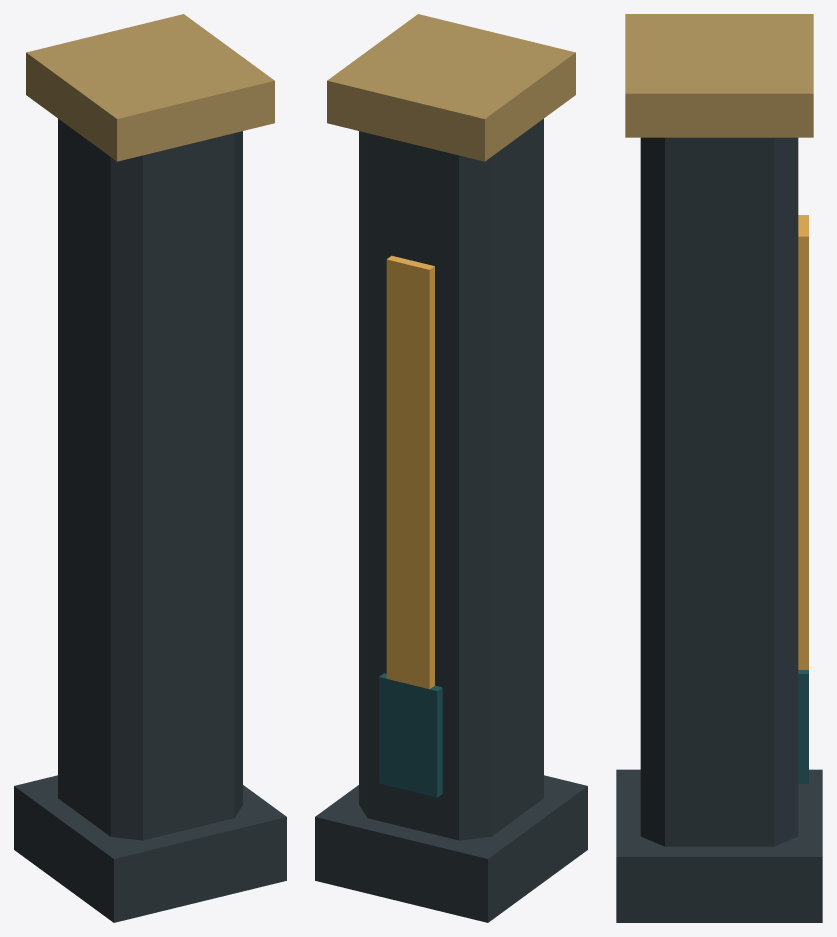
The model's file is VIC_S01_STATIC_EMITTER_Roblox.fbx.
The picture shows the model from 3 angles, left to right: view 1: azimuth 30°, elevation 25°; view 2: azimuth 150°, elevation 25°; view 3: azimuth 270°, elevation 25°; orthographic projection. The views are drawn at different scales.
Parts seen in each view (by area): view 1: VIC_S01_STATIC_EMITTER__Charcoal, VIC_S01_STATIC_EMITTER__Brass; view 2: VIC_S01_STATIC_EMITTER__Charcoal, VIC_S01_STATIC_EMITTER__Brass, VIC_S01_STATIC_EMITTER__Amber, VIC_S01_STATIC_EMITTER__Teal; view 3: VIC_S01_STATIC_EMITTER__Charcoal, VIC_S01_STATIC_EMITTER__Brass, VIC_S01_STATIC_EMITTER__Amber, VIC_S01_STATIC_EMITTER__Teal.
Part boxes in pixels (x1,y1,x2,y2): VIC_S01_STATIC_EMITTER__Charcoal: [14, 118, 286, 922]; VIC_S01_STATIC_EMITTER__Brass: [26, 14, 274, 161]; VIC_S01_STATIC_EMITTER__Charcoal: [315, 118, 587, 922]; VIC_S01_STATIC_EMITTER__Brass: [327, 14, 575, 161]; VIC_S01_STATIC_EMITTER__Amber: [386, 255, 434, 689]; VIC_S01_STATIC_EMITTER__Teal: [379, 673, 442, 797]; VIC_S01_STATIC_EMITTER__Charcoal: [616, 137, 822, 922]; VIC_S01_STATIC_EMITTER__Brass: [625, 14, 813, 137]; VIC_S01_STATIC_EMITTER__Amber: [798, 215, 808, 669]; VIC_S01_STATIC_EMITTER__Teal: [798, 670, 808, 783].
Size of the model in its own units: 0.68 by 3 by 0.68.
